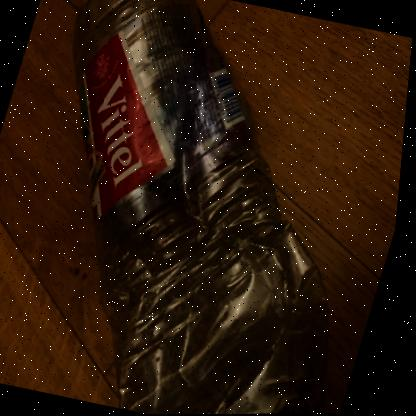Plastic: (74, 0, 334, 415)
